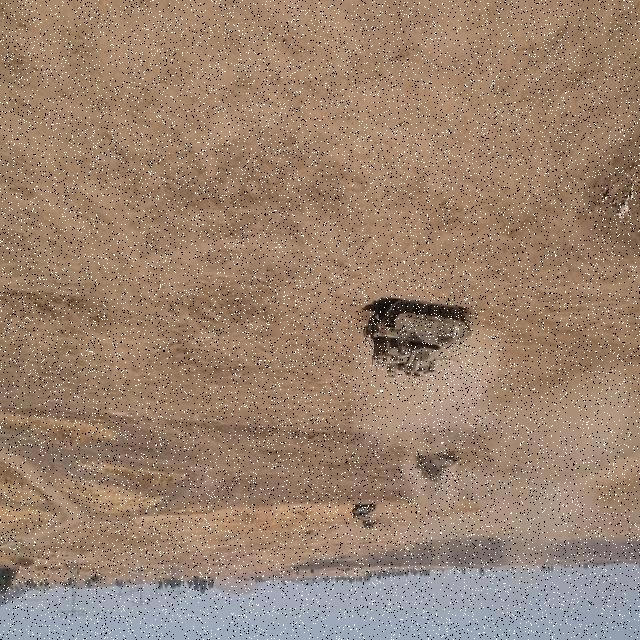MIL_MBT: (357, 302, 476, 395), (418, 450, 458, 490), (351, 501, 376, 521), (360, 522, 380, 534)
